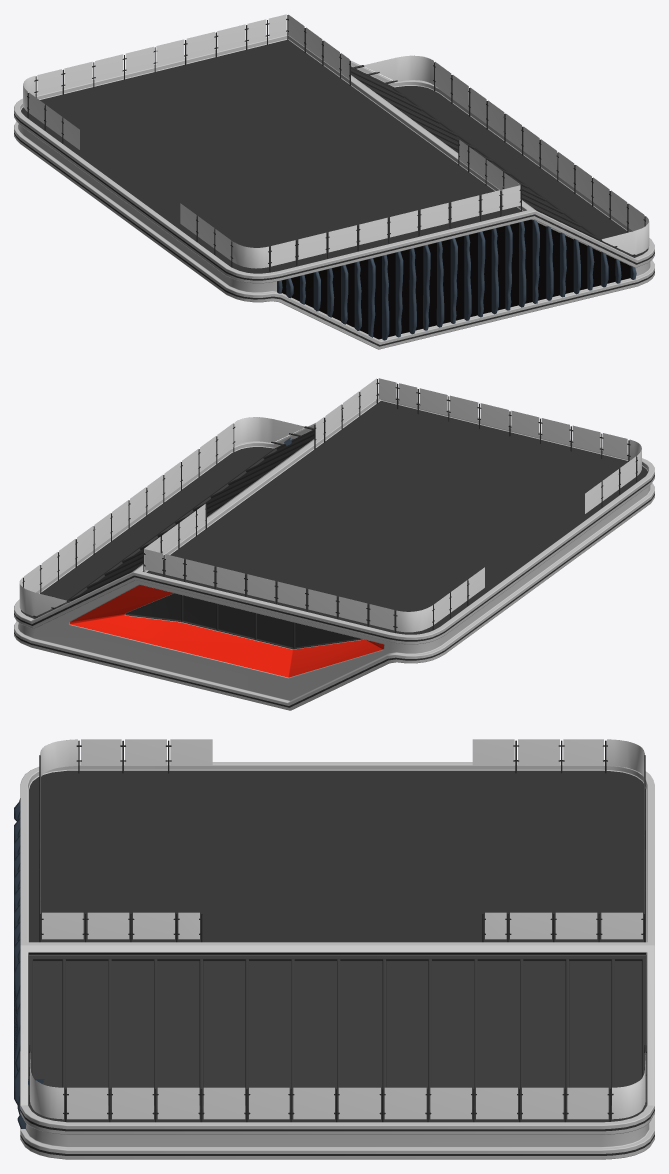
File: SM_Building01_FL_3.fbx
3 views of the same model, one above another, from view 1: azimuth 30°, elevation 25°; view 2: azimuth 150°, elevation 25°; view 3: azimuth 270°, elevation 25° (orthographic). The views are drawn at different scales.
Parts seen in each view (by area): view 1: SM_Building01_FL_02; view 2: SM_Building01_FL_02; view 3: SM_Building01_FL_02.
Part boxes in pixels (<box>): SM_Building01_FL_02: <box>14,14,654,349</box>; SM_Building01_FL_02: <box>14,378,654,710</box>; SM_Building01_FL_02: <box>14,739,654,1159</box>.
Size of the model in its own units: 2000 by 551 by 2019.
